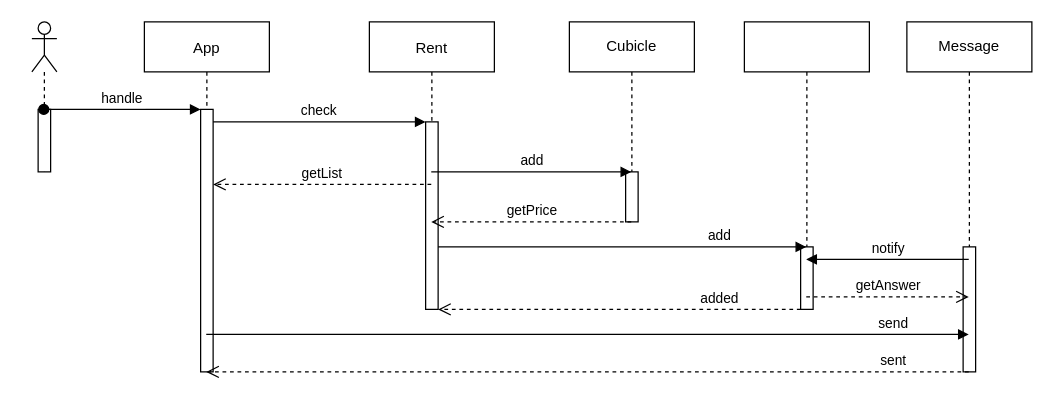
This 1054x406 diagram has some shape labels left out. Each missing label, with the box of its shape:
Client: (743, 21, 869, 309)
GOTec: (31, 21, 57, 172)
